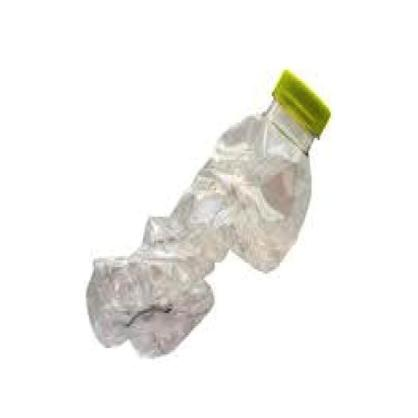bottle: (83, 66, 336, 360)
cap: (265, 67, 342, 147)
